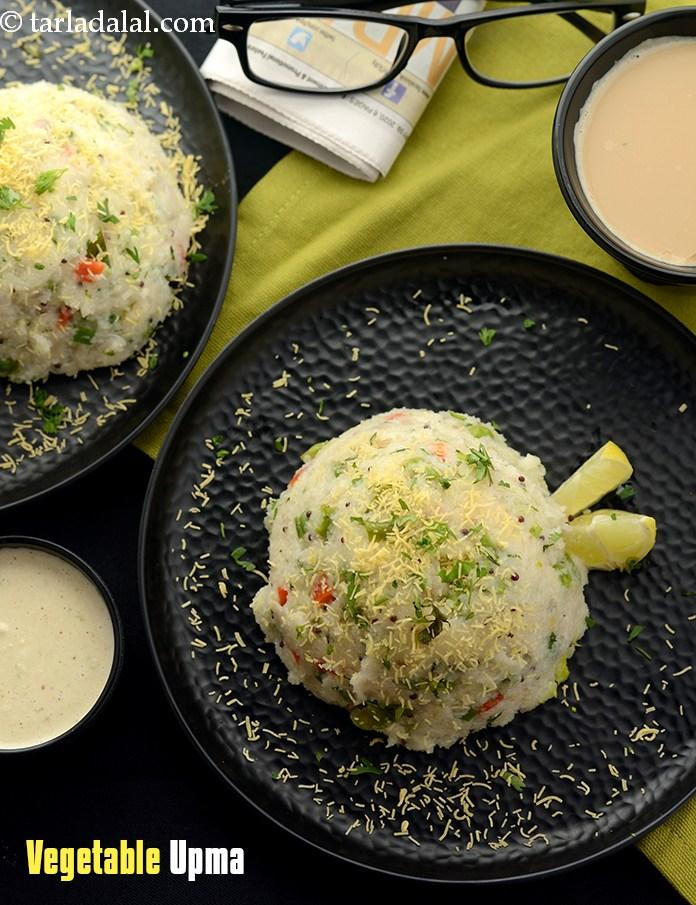upma: (261, 413, 600, 743), (0, 80, 186, 373)
